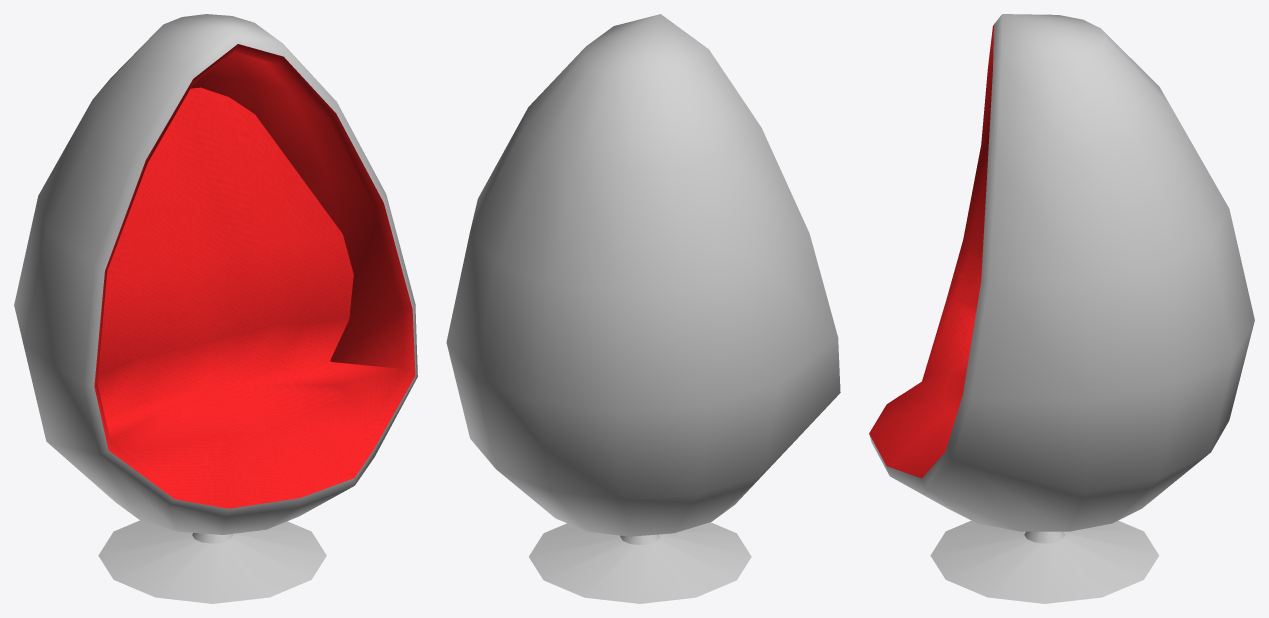
File: Eggchair_A_02.FBX
3 views of the same model, side by side, from view 1: azimuth 30°, elevation 25°; view 2: azimuth 150°, elevation 25°; view 3: azimuth 270°, elevation 25° (orthographic). The views are drawn at different scales.
Parts seen in each view (by area): view 1: Egg_chair; view 2: Egg_chair; view 3: Egg_chair.
Boxes of the visible parts, left/top/right/bottom form: Egg_chair: left=14, top=14, right=417, bottom=603; Egg_chair: left=446, top=14, right=840, bottom=603; Egg_chair: left=869, top=14, right=1254, bottom=603.
Bounding box in the file's own units: 168 × 261 × 169.
